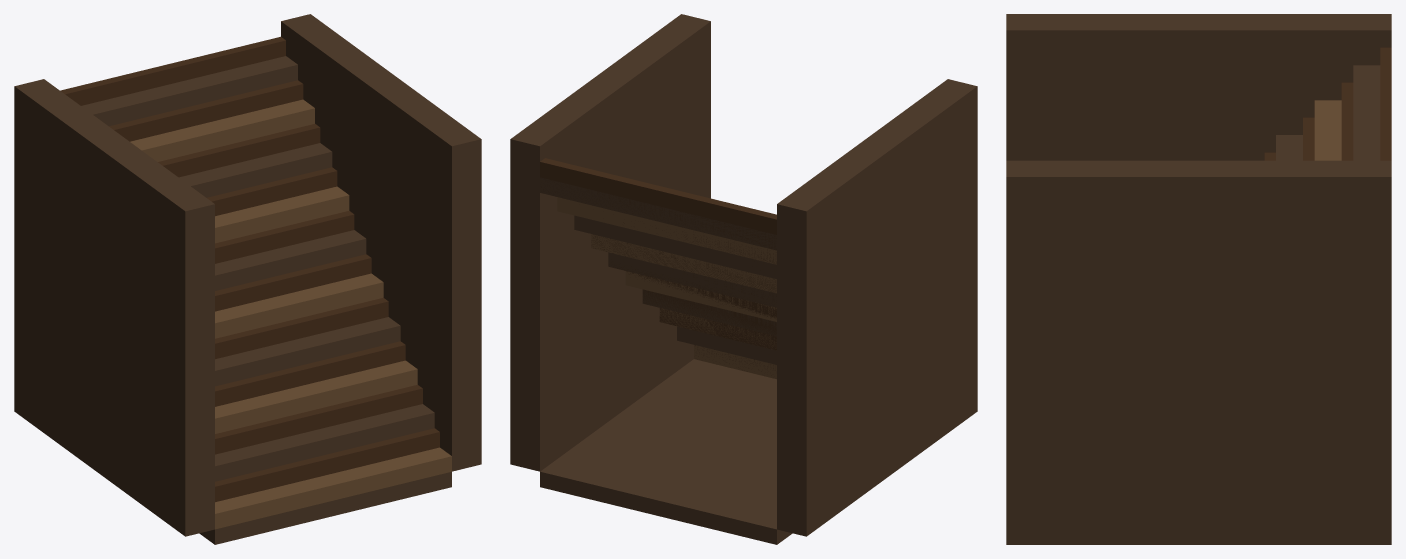
The model's file is stair_down.glb.
The picture shows the model from 3 angles, left to right: view 1: azimuth 30°, elevation 25°; view 2: azimuth 150°, elevation 25°; view 3: azimuth 270°, elevation 25°; orthographic projection. The views are drawn at different scales.
Parts seen in each view (by area): view 1: stair_down; view 2: stair_down; view 3: stair_down.
Part boxes in pixels (x1=…): stair_down: x1=14, y1=14, x2=481, y2=544; stair_down: x1=510, y1=14, x2=977, y2=544; stair_down: x1=1006, y1=14, x2=1391, y2=544.
Size of the model in its own units: 4 by 4.4 by 4.
1 material, 1 textured.
